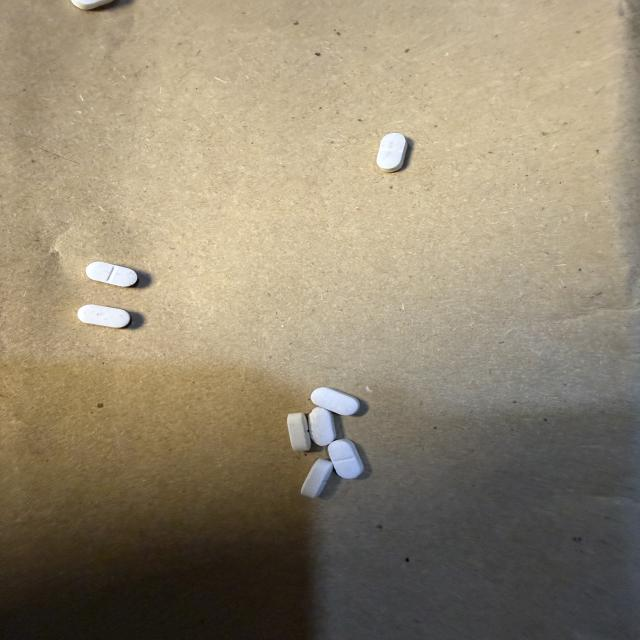pill: (328, 439, 363, 478), (311, 387, 359, 415), (301, 459, 333, 498), (86, 262, 137, 286), (377, 133, 407, 172), (78, 305, 130, 327), (308, 407, 335, 446), (287, 413, 311, 451), (72, 0, 112, 9)
